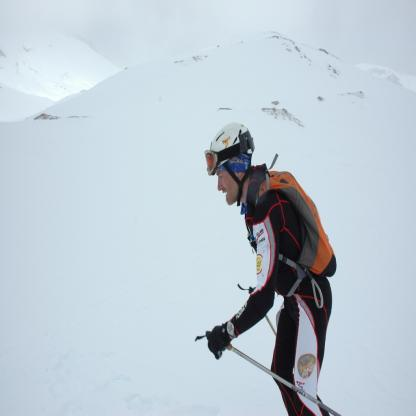Helmet: (209, 123, 258, 184)
